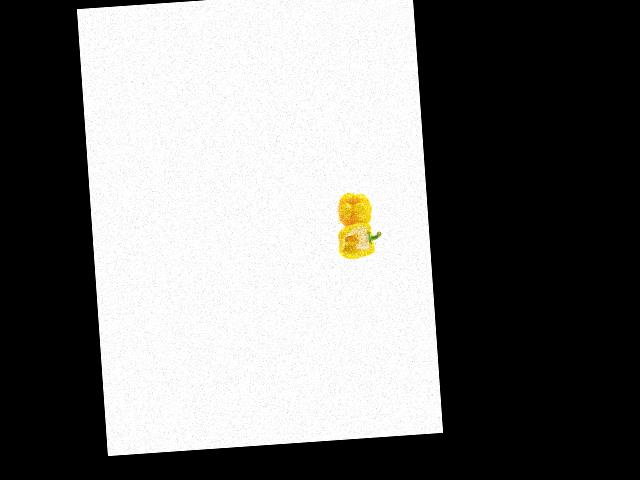bell_pepper: (328, 215, 383, 262)
